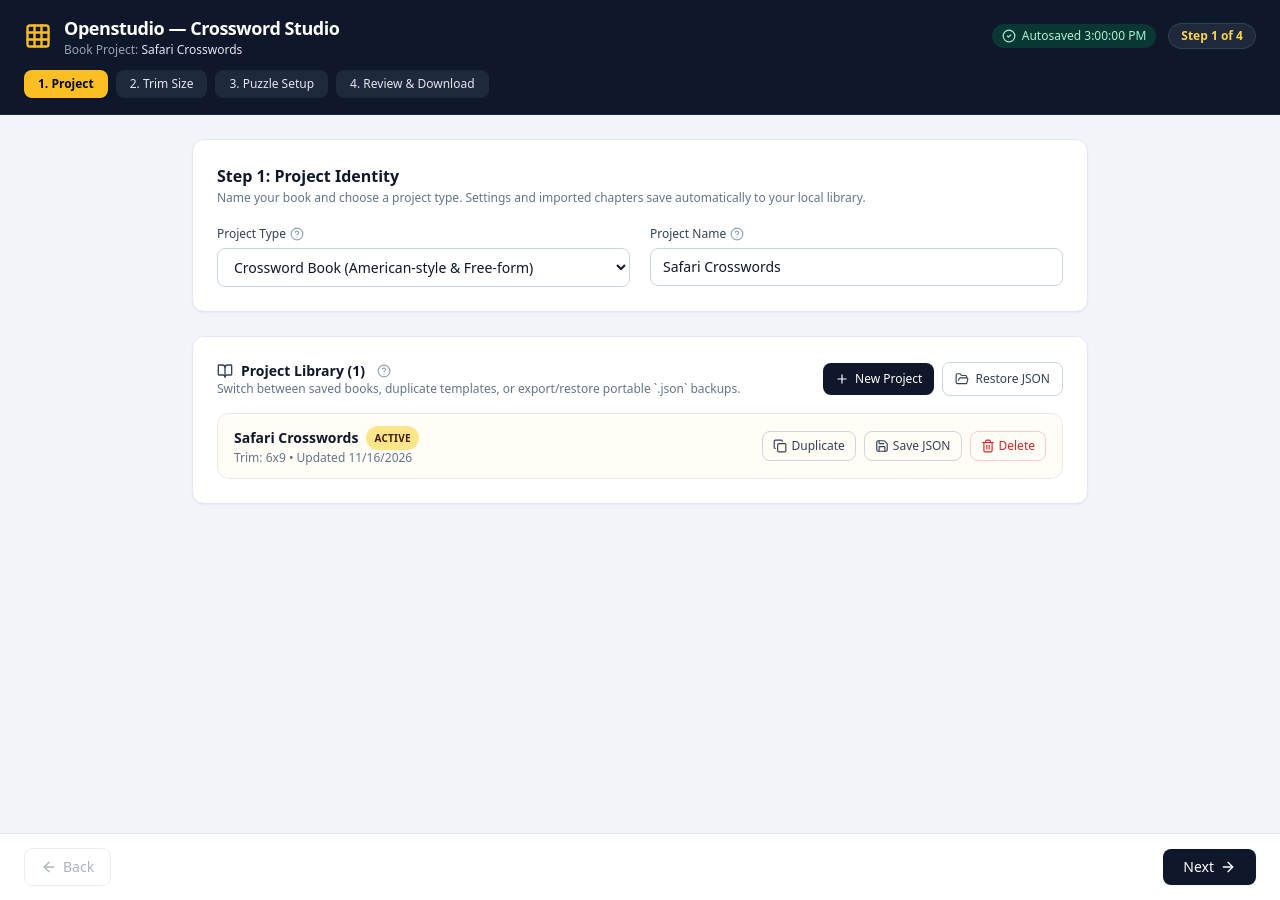
Test: Phase 5: 4-Step Crossword Book Studio › hides raw validator checks behind the Advanced toggle in Step 3 live preview
Expected: the text "Step 1 of 4" is shown, 1168,23 -> 1256,49
Expected: the field labelled "Project Name" holds "Safari Crosswords", 650,248 -> 1063,286
Click the button "Next" at (1210, 867), box 1163,849 -> 1256,885
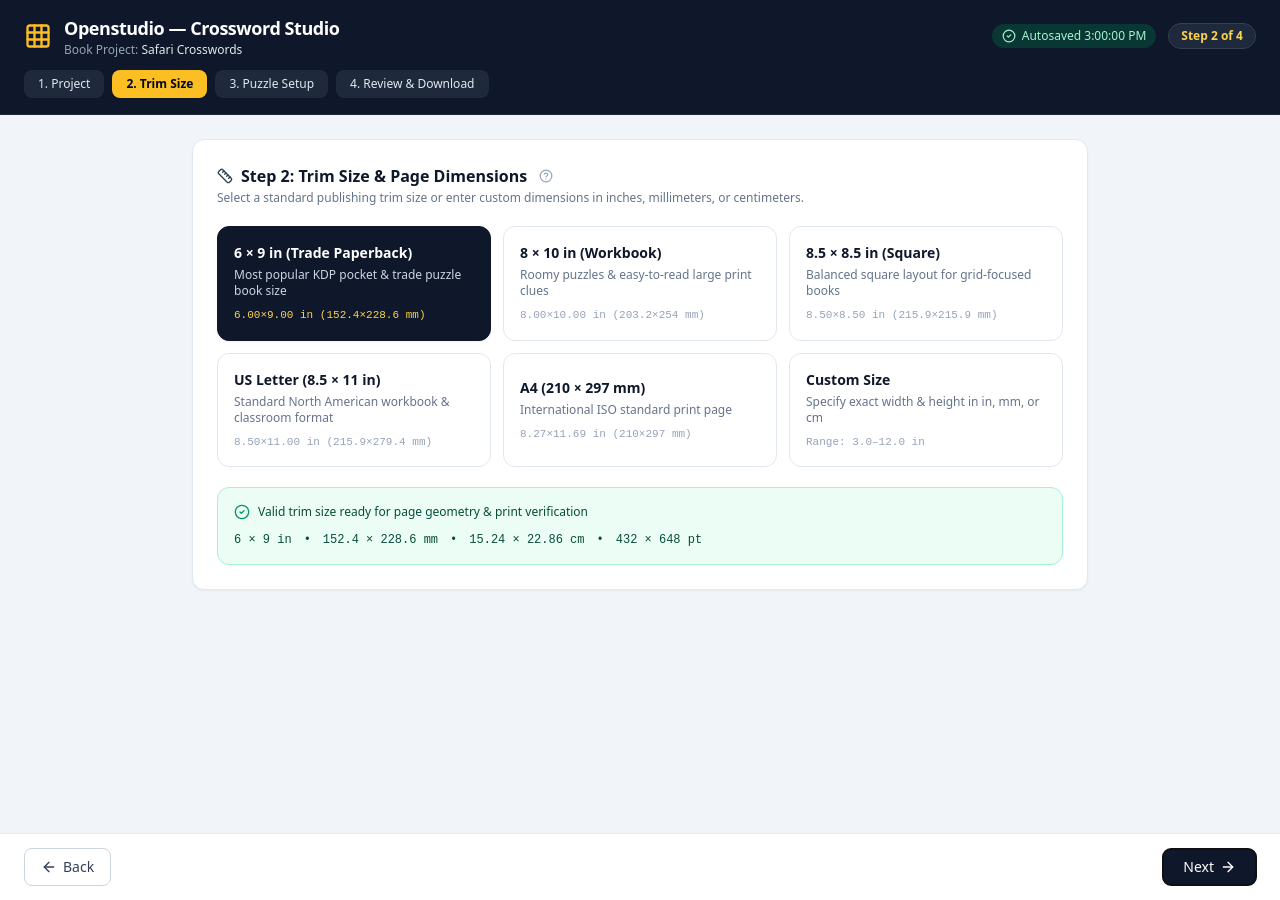
Click the button "Next" at (1210, 867), box 1163,849 -> 1256,885
(page scrolled)
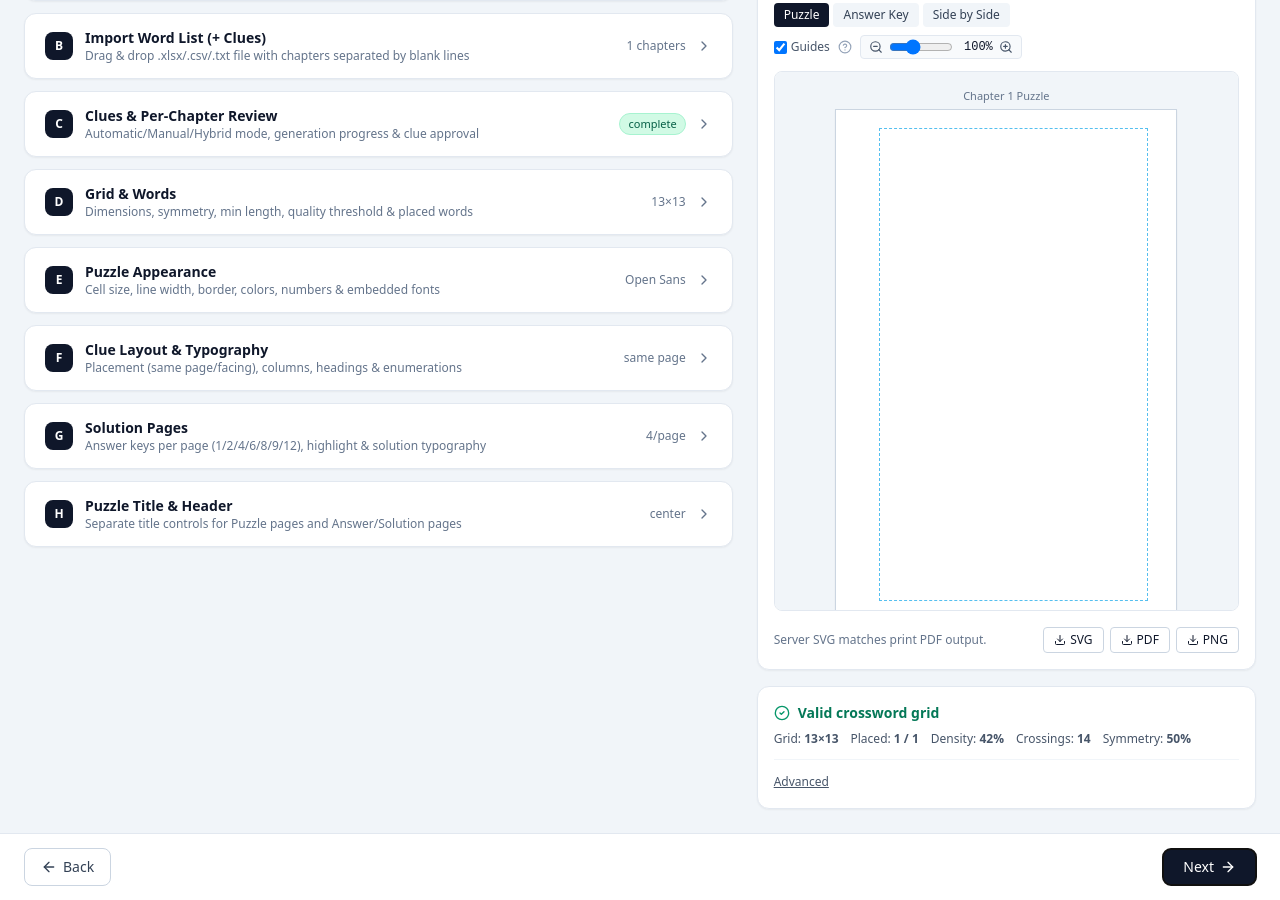
Expected: the text "hit_time_limit" is not shown
Expected: the text "Valid crossword grid" is shown, 798,703 -> 940,723
Open Advanced toggle
Click the button "Advanced" at (801, 782), box 774,774 -> 829,790
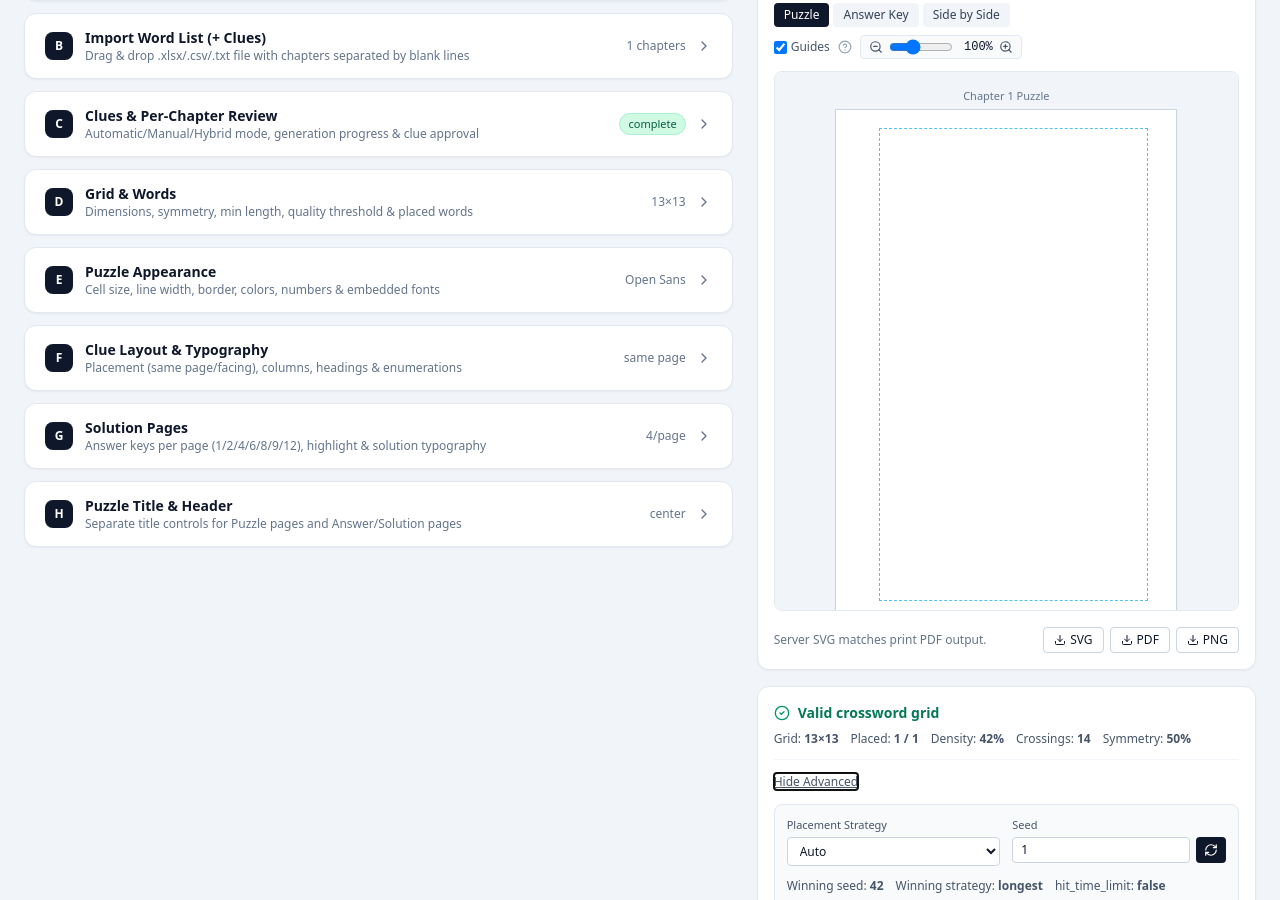
Expected: the text "Winning seed: 42" is shown, 787,878 -> 884,894
